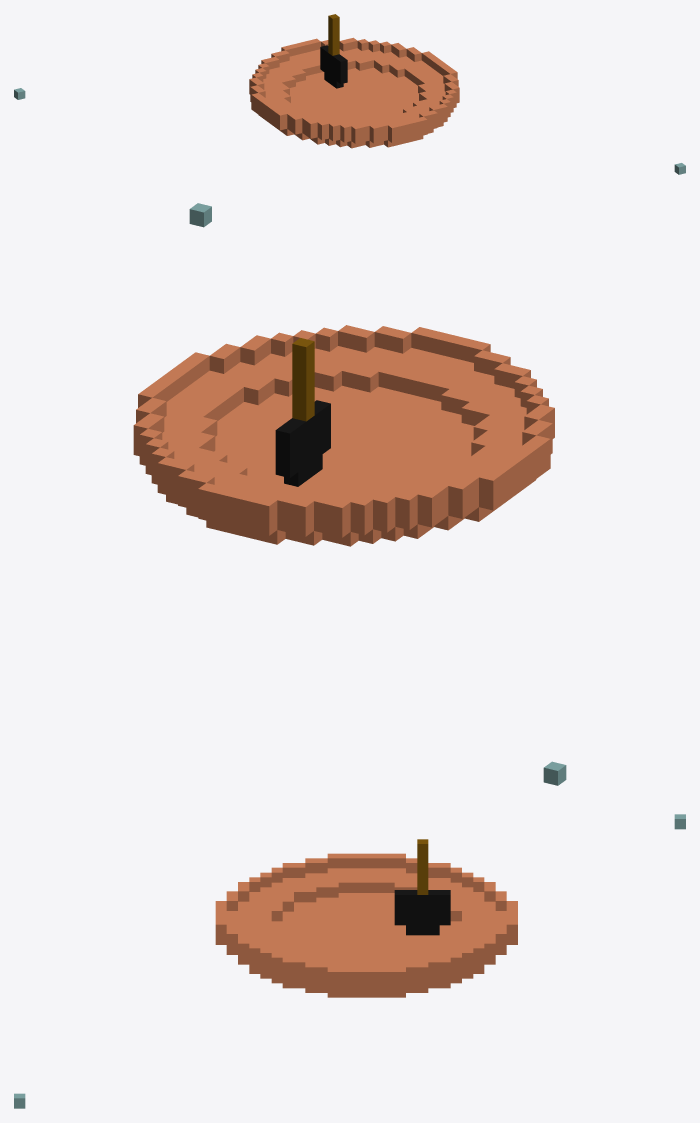
Rendered from clay_pit.glb.
3 renders of one model, top to bottom at view 1: azimuth 30°, elevation 25°; view 2: azimuth 150°, elevation 25°; view 3: azimuth 270°, elevation 25°, orthographic. The views are drawn at different scales.
Visible parts, largest first — view 1: clay_pit; view 2: clay_pit; view 3: clay_pit.
Boxes of the visible parts, x1,y1,x2,y2 form: clay_pit: [14, 14, 685, 174]; clay_pit: [133, 203, 566, 785]; clay_pit: [14, 814, 685, 1108].
Size of the model in its own units: 6 by 1.3 by 6.
